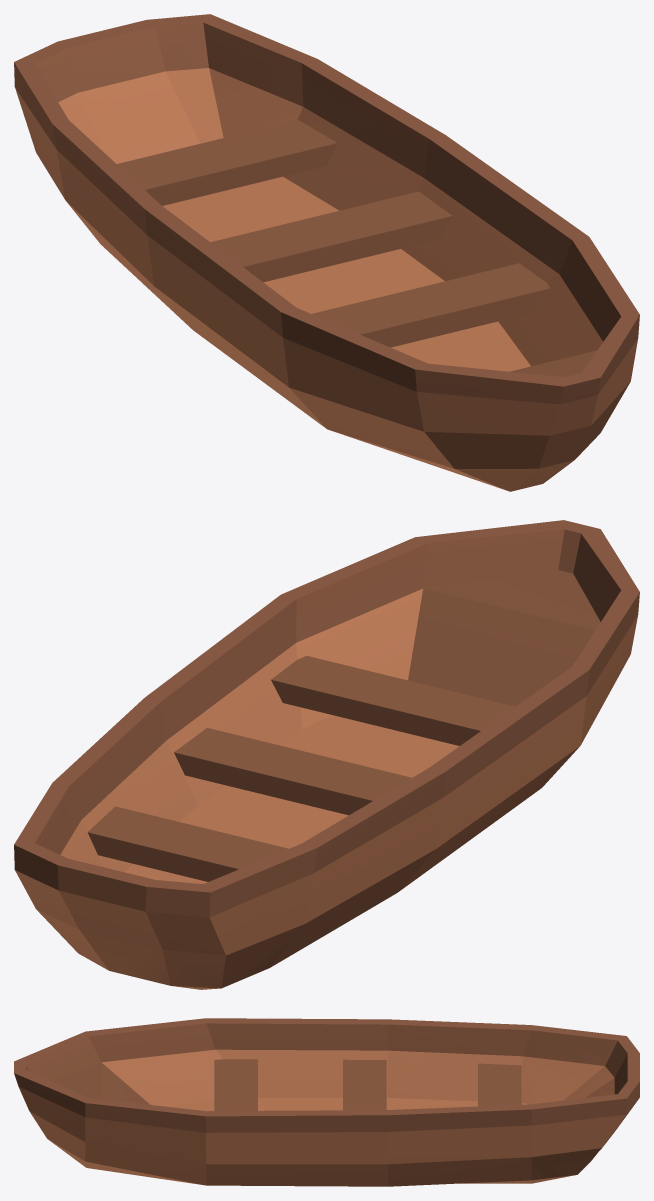
Rendered from boat.fbx.
The picture shows the model from 3 angles, top to bottom: view 1: azimuth 30°, elevation 25°; view 2: azimuth 150°, elevation 25°; view 3: azimuth 270°, elevation 25°; orthographic projection. The views are drawn at different scales.
Parts seen in each view (by area): view 1: boat; view 2: boat; view 3: boat.
Part boxes in pixels (x1,y1,x2,y2): boat: (14,14,639,491); boat: (14,520,639,989); boat: (14,1018,639,1186).
Size of the model in its own units: 193 by 102 by 521.
